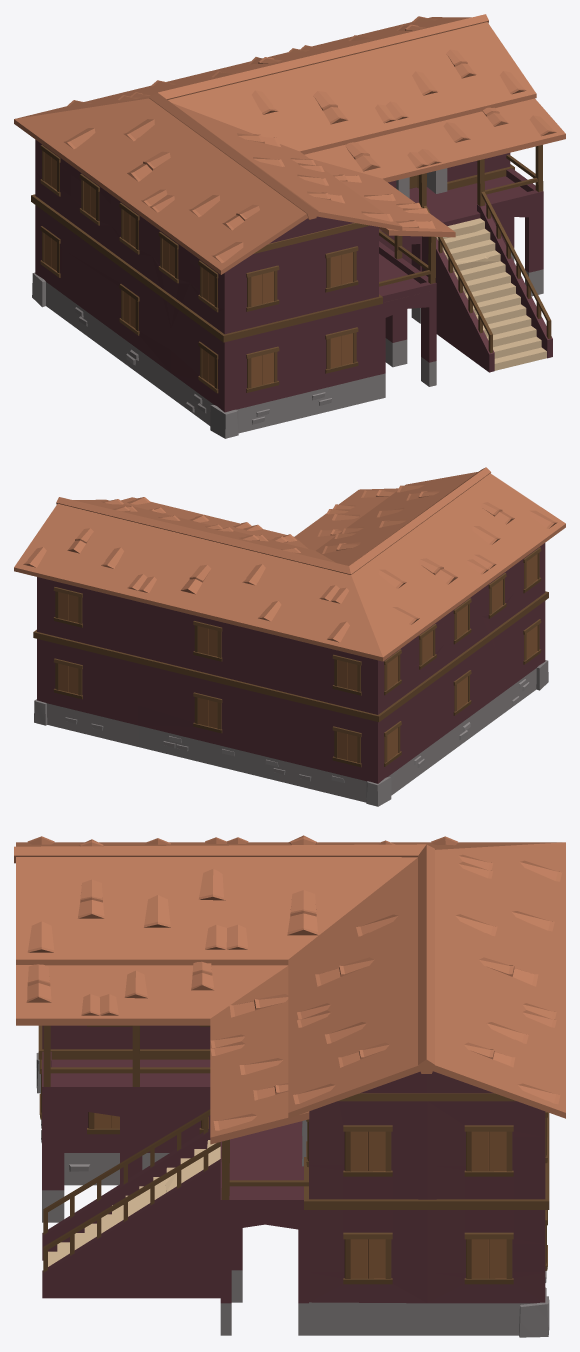
The model's file is SM_House_Basic_Big_Empire.fbx.
3 views of the same model, one above another, from view 1: azimuth 30°, elevation 25°; view 2: azimuth 150°, elevation 25°; view 3: azimuth 270°, elevation 25° (orthographic). The views are drawn at different scales.
Parts seen in each view (by area): view 1: SM_House_Basic_Big_Empire; view 2: SM_House_Basic_Big_Empire; view 3: SM_House_Basic_Big_Empire.
Part boxes in pixels (bbox=[...]): SM_House_Basic_Big_Empire: bbox=[14, 14, 565, 438]; SM_House_Basic_Big_Empire: bbox=[14, 467, 565, 806]; SM_House_Basic_Big_Empire: bbox=[14, 835, 565, 1337].
Size of the model in its own units: 14.44 by 7.23 by 12.4.
